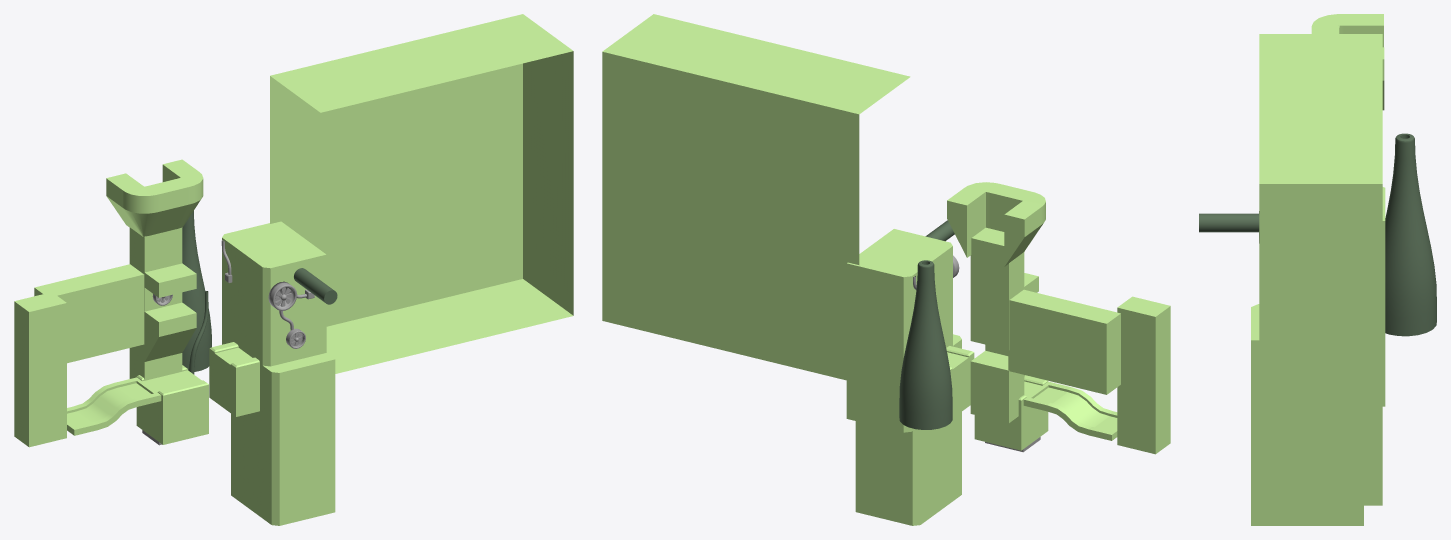
File: TemporaryLevelMesh.fbx
3 views of the same model, side by side, from view 1: azimuth 30°, elevation 25°; view 2: azimuth 150°, elevation 25°; view 3: azimuth 270°, elevation 25° (orthographic). The views are drawn at different scales.
Visible parts, largest first — view 1: Fan_FanArm1; view 2: Fan_FanArm1; view 3: Fan_FanArm1.
Part boxes in pixels (left/top/right/bottom): Fan_FanArm1: left=14, top=14, right=573, bottom=525; Fan_FanArm1: left=602, top=14, right=1170, bottom=525; Fan_FanArm1: left=1199, top=14, right=1436, bottom=525.
Size of the model in its own units: 78.07 by 56.62 by 25.17.
